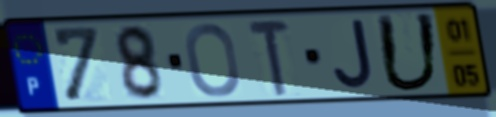7: (49, 25, 105, 106)
8: (115, 22, 165, 102)
J: (331, 16, 376, 92)
O: (182, 21, 243, 100)
T: (244, 18, 294, 99)
U: (372, 11, 444, 95)
